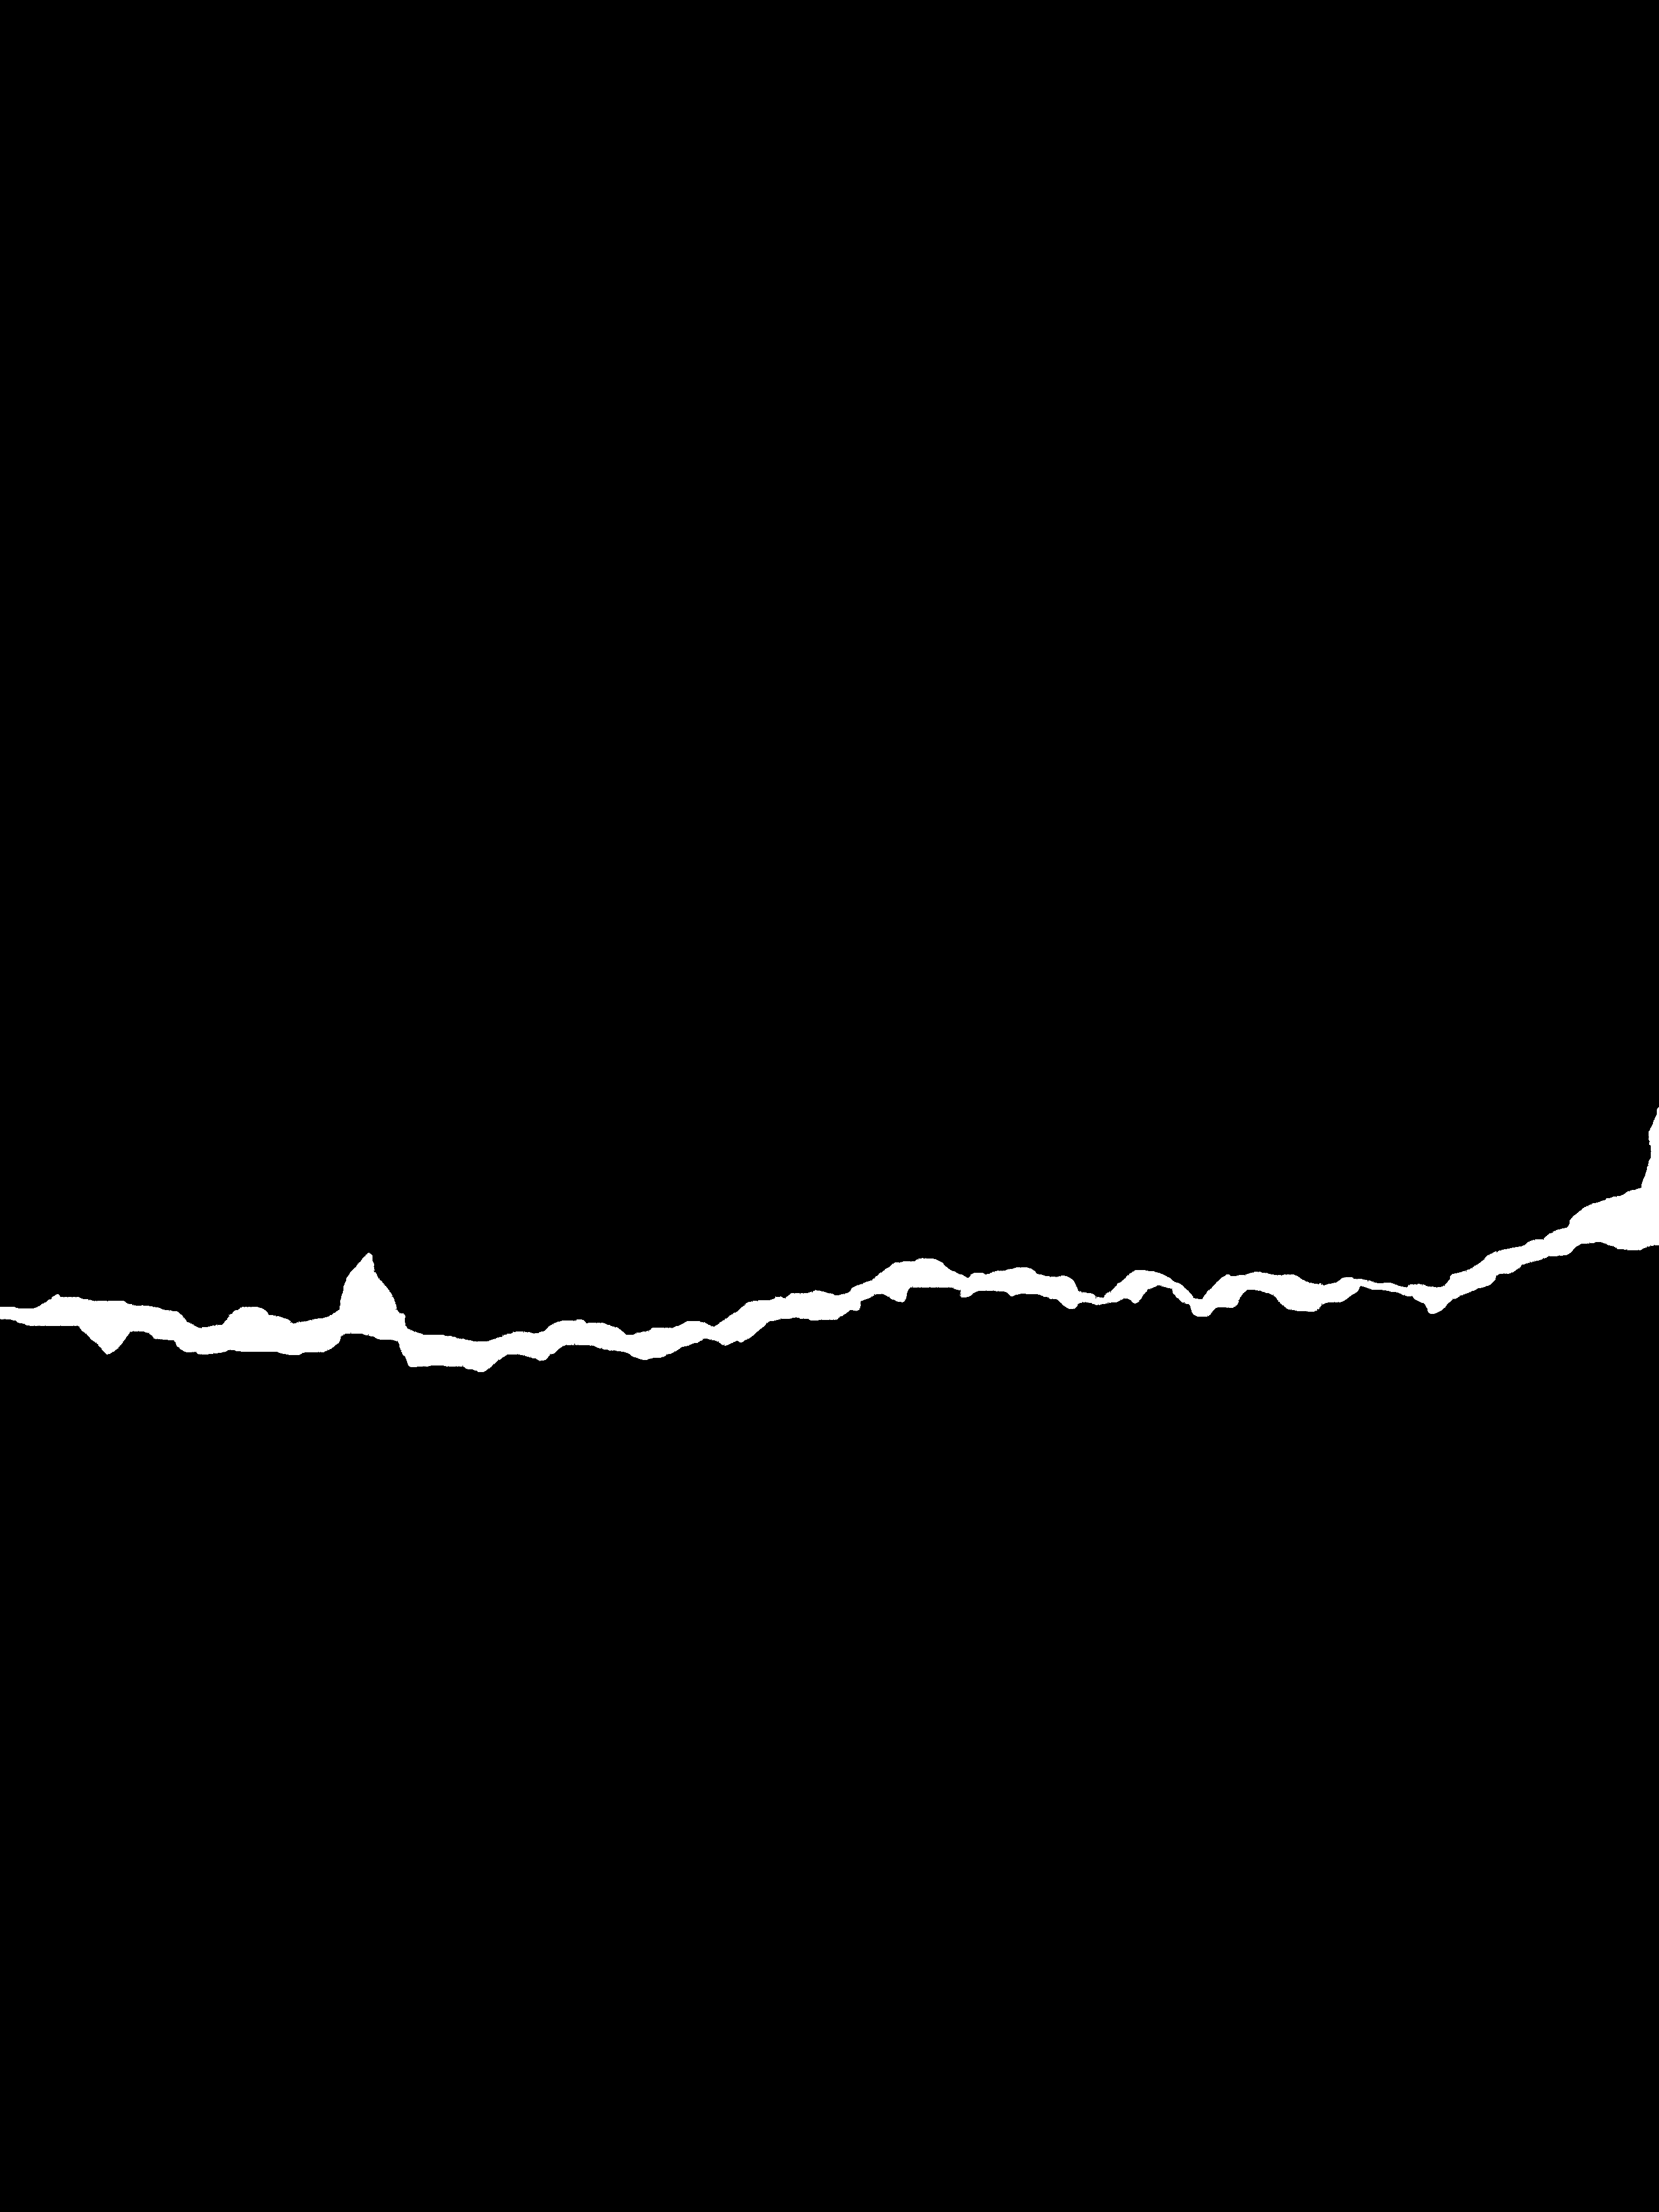Crack: (0, 1090, 1659, 1413)
